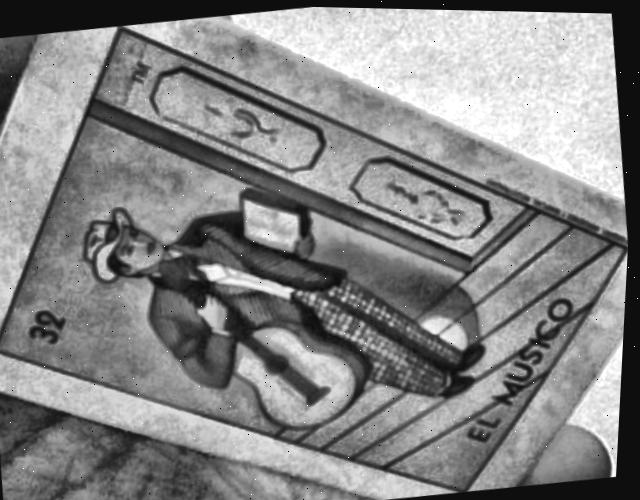El Musico: (0, 26, 623, 489)
